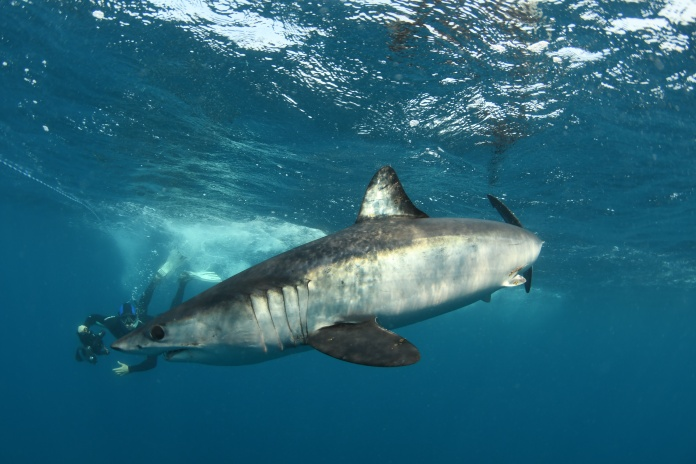Mako: (104, 157, 577, 389)
